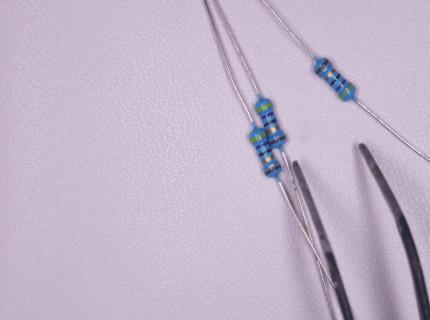Black band: (329, 73, 341, 87), (258, 148, 272, 158), (264, 118, 278, 127)
Brown band: (315, 59, 330, 75), (265, 164, 281, 176), (270, 136, 287, 145)
Gold band: (324, 68, 337, 82), (265, 125, 282, 135), (261, 154, 276, 165)
Violet band: (334, 79, 347, 93), (255, 141, 270, 150), (260, 111, 275, 120)
Yellow band: (339, 83, 354, 100), (250, 132, 267, 144), (255, 102, 273, 113)
